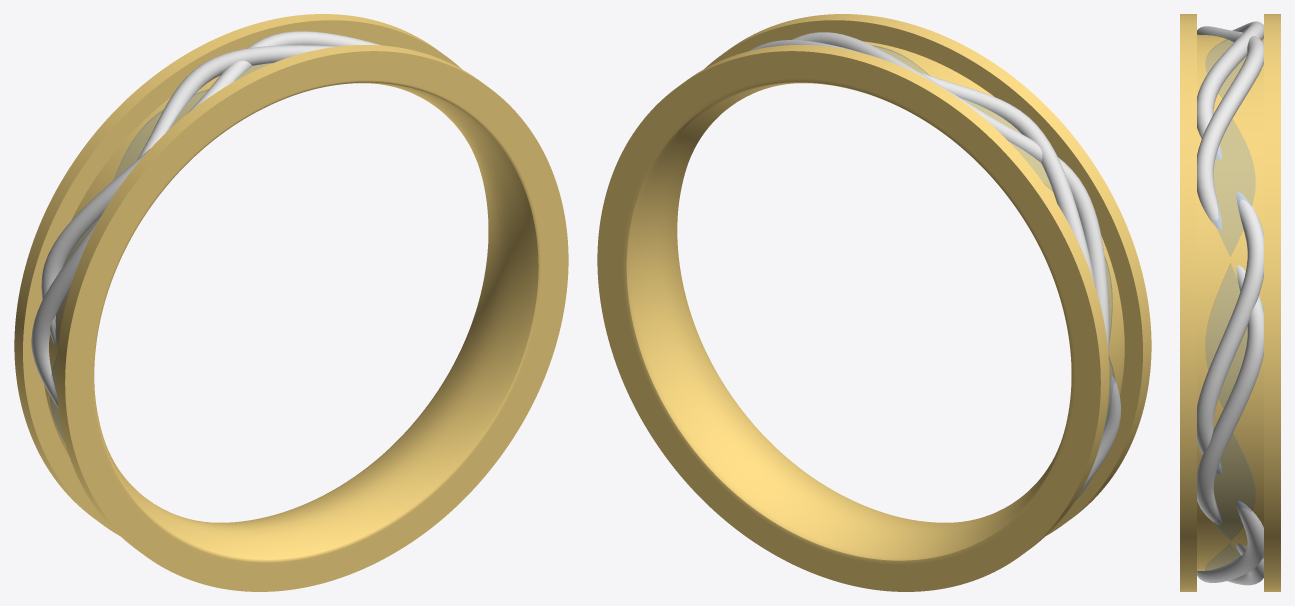
File: RobertMv3wb.glb
The picture shows the model from 3 angles, left to right: view 1: azimuth 30°, elevation 25°; view 2: azimuth 150°, elevation 25°; view 3: azimuth 270°, elevation 25°; orthographic projection.
Parts seen in each view (by area): view 1: V3 Robert YG for 3d model, V3 Robert PT for 3d model, V3 Robert color it; view 2: V3 Robert YG for 3d model, V3 Robert PT for 3d model, V3 Robert color it; view 3: V3 Robert YG for 3d model, V3 Robert PT for 3d model, V3 Robert color it.
Part boxes in pixels (x1,y1,x2,y2): V3 Robert YG for 3d model: (14, 14, 568, 591); V3 Robert PT for 3d model: (31, 31, 381, 409); V3 Robert color it: (50, 62, 273, 441); V3 Robert YG for 3d model: (597, 14, 1151, 591); V3 Robert PT for 3d model: (749, 32, 1120, 500); V3 Robert color it: (872, 45, 1115, 430); V3 Robert YG for 3d model: (1180, 14, 1280, 591); V3 Robert PT for 3d model: (1197, 21, 1263, 585); V3 Robert color it: (1205, 38, 1255, 571).
Bounding box in the file's own units: 24.65 × 24.65 × 4.3.
